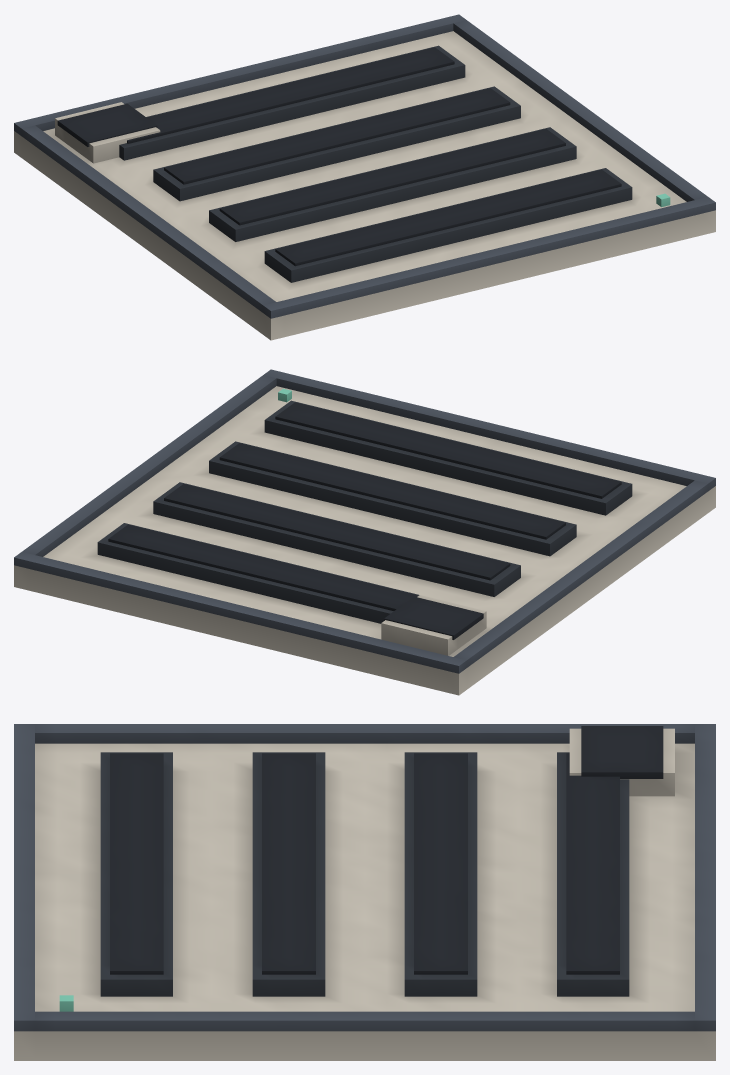
The model's file is CK1_RoofPanel.glb.
3 views of the same model, one above another, from view 1: azimuth 30°, elevation 25°; view 2: azimuth 150°, elevation 25°; view 3: azimuth 270°, elevation 25° (orthographic). The views are drawn at different scales.
Parts seen in each view (by area): view 1: CK1_RoofPanel; view 2: CK1_RoofPanel; view 3: CK1_RoofPanel.
Boxes of the visible parts, box(x1,y1,x2,y2) form: CK1_RoofPanel: box(14, 14, 715, 340); CK1_RoofPanel: box(14, 369, 715, 695); CK1_RoofPanel: box(14, 724, 715, 1060).
Bounding box in the file's own units: 6 × 0.515 × 6.
